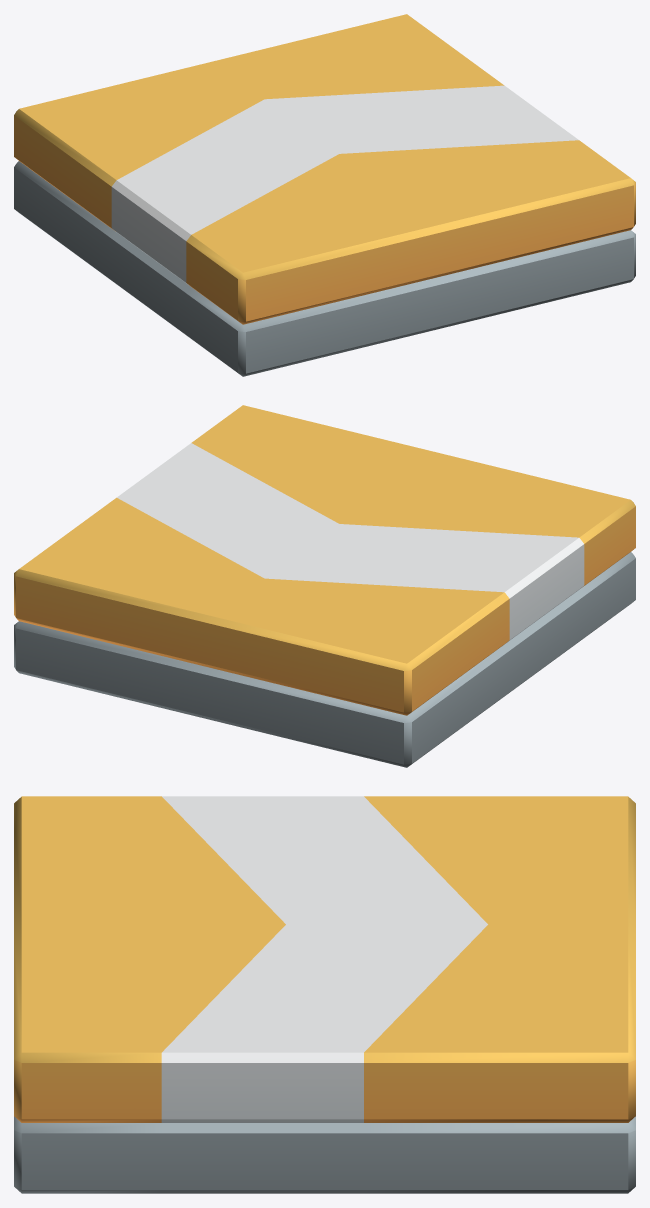
Rendered from kaykit_platform_arrow_4x4x1_yellow.glb.
3 views of the same model, one above another, from view 1: azimuth 30°, elevation 25°; view 2: azimuth 150°, elevation 25°; view 3: azimuth 270°, elevation 25° (orthographic). The views are drawn at different scales.
Visible parts, largest first — view 1: platform_arrow_4x4x1_yellow_visual; view 2: platform_arrow_4x4x1_yellow_visual; view 3: platform_arrow_4x4x1_yellow_visual.
Part boxes in pixels (x1=…): platform_arrow_4x4x1_yellow_visual: x1=14, y1=14, x2=635, y2=376; platform_arrow_4x4x1_yellow_visual: x1=14, y1=405, x2=635, y2=767; platform_arrow_4x4x1_yellow_visual: x1=14, y1=796, x2=635, y2=1193.
Size of what is drawn, in the model's own units: 4 by 1 by 4.
Materials: 1 (1 with a texture image).
